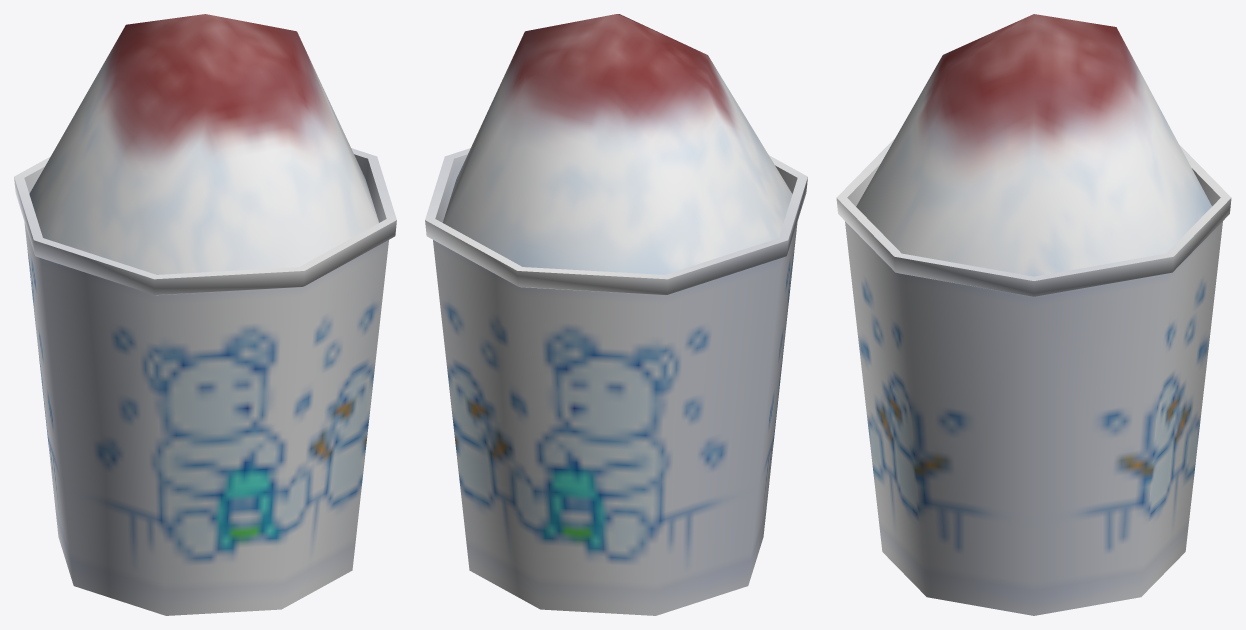
File: jsf_ShavedIce_04f.fbx
3 views of the same model, side by side, from view 1: azimuth 30°, elevation 25°; view 2: azimuth 150°, elevation 25°; view 3: azimuth 270°, elevation 25° (orthographic).
Parts seen in each view (by area): view 1: jsf_ShavedIce_04f; view 2: jsf_ShavedIce_04f; view 3: jsf_ShavedIce_04f.
Part boxes in pixels (x1=…): jsf_ShavedIce_04f: x1=14, y1=14, x2=396, y2=615; jsf_ShavedIce_04f: x1=425, y1=14, x2=807, y2=615; jsf_ShavedIce_04f: x1=836, y1=14, x2=1231, y2=615.
Size of the model in its own units: 9.3 by 13.97 by 9.3.
